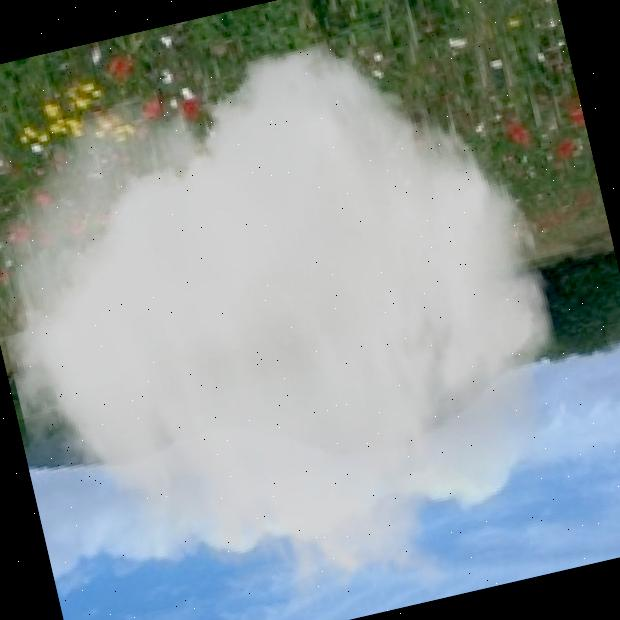smoke: (0, 3, 615, 620)
